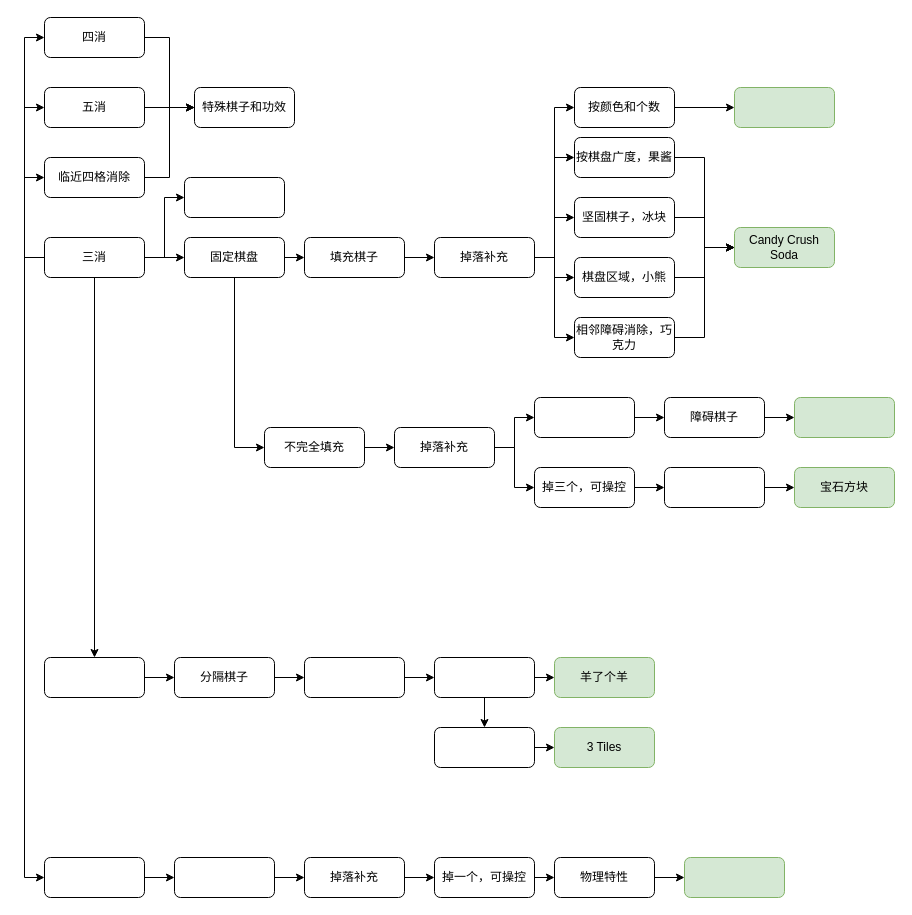
Image size: 912x915. Some labels were removed from this diagram. Here are the shapes that lost their labels. From the top down, the centre of each, then its label:
point 784,107: 宝石迷阵
point 234,197: 多棋盘
point 584,417: 掉两个，可操控
point 844,417: 玛丽医生
point 714,487: 掉落速度加快
point 94,677: 小棋盘
point 354,677: 预设棋子
point 484,677: 隐藏颜色
point 484,747: 万能牌
point 94,877: 二消
point 224,877: 父子型棋子
point 734,877: 合成大西瓜
